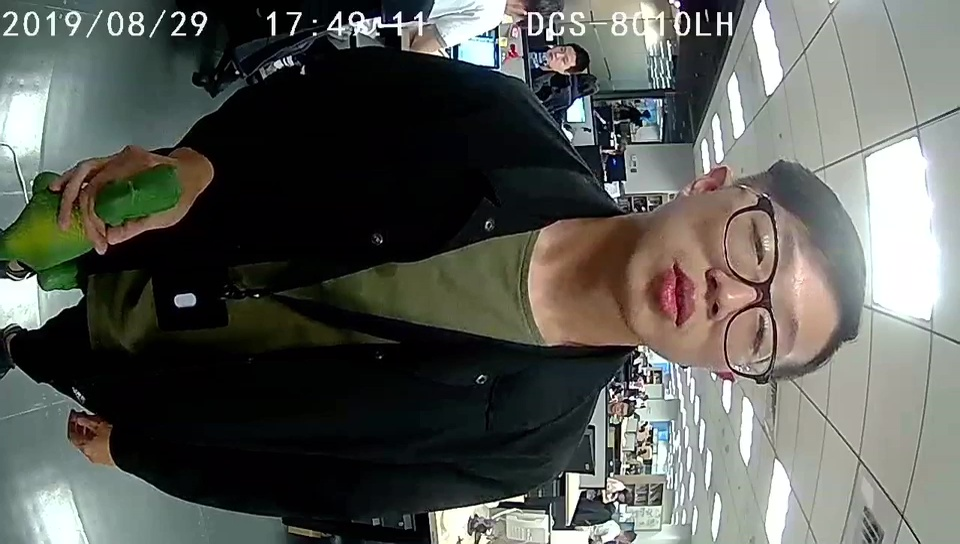rex: (12, 162, 185, 292)
